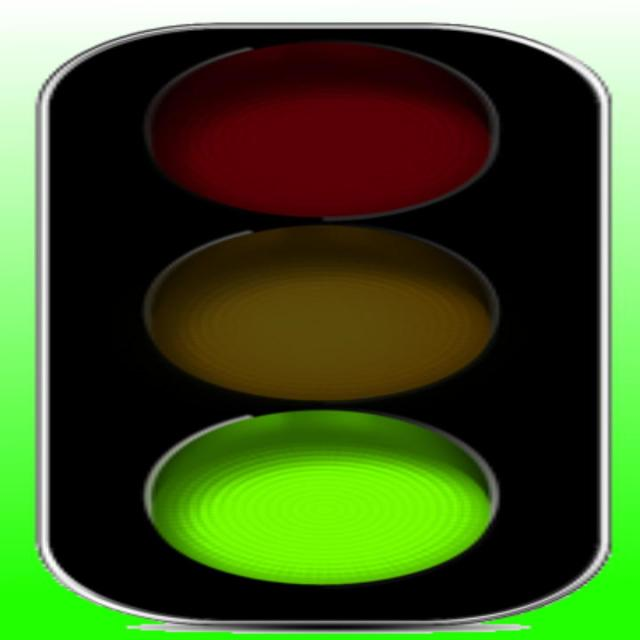green: (131, 416, 505, 576)
